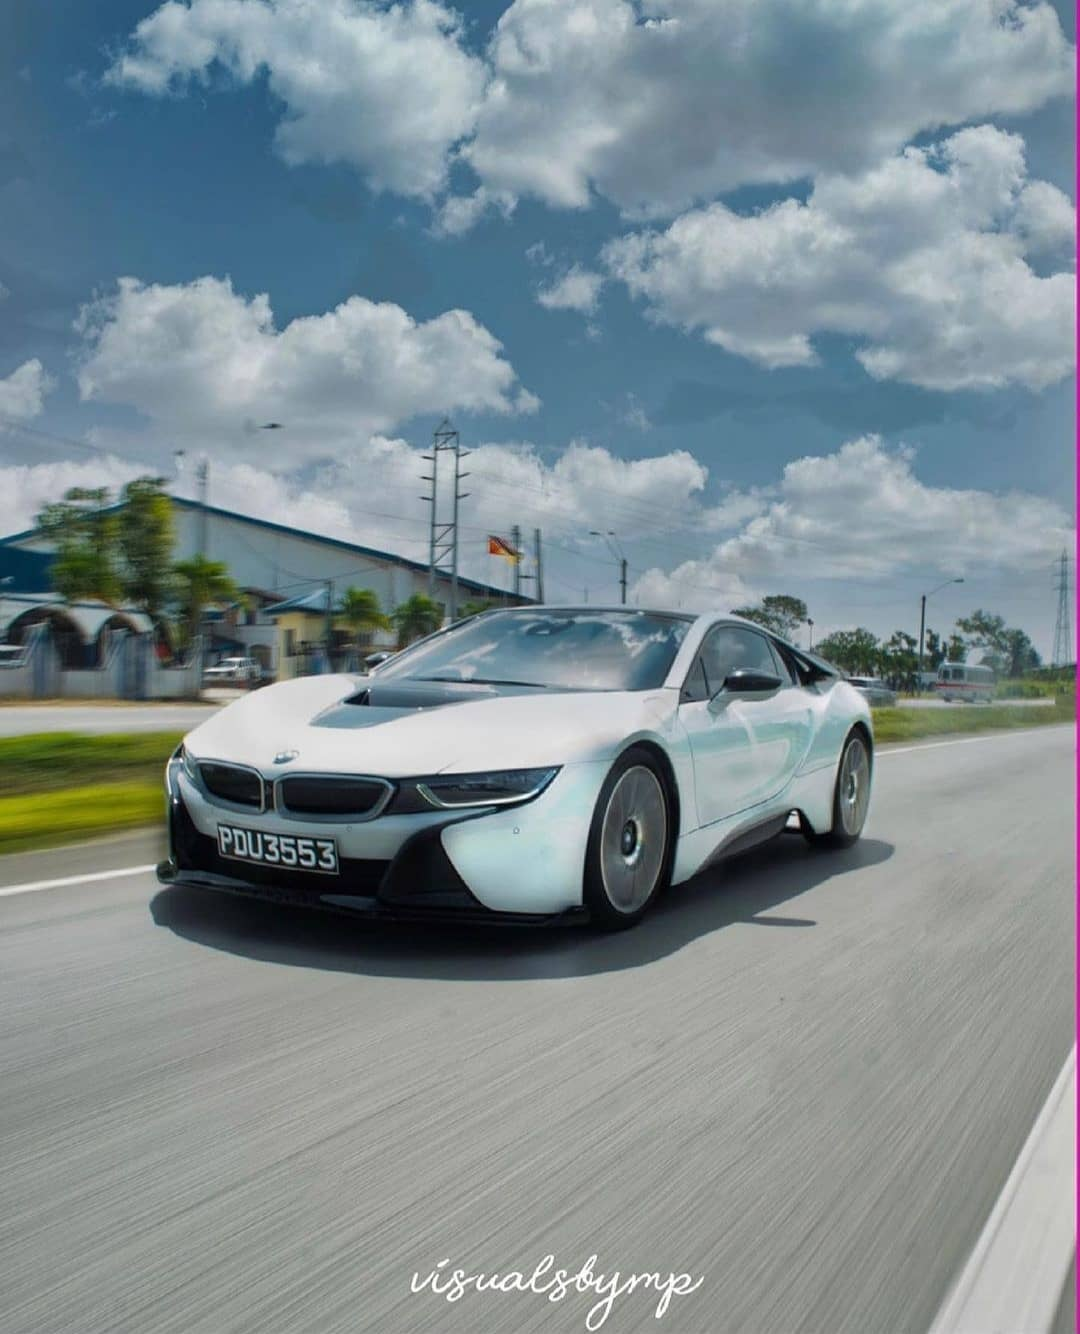License-Plate: (218, 821, 341, 856)
